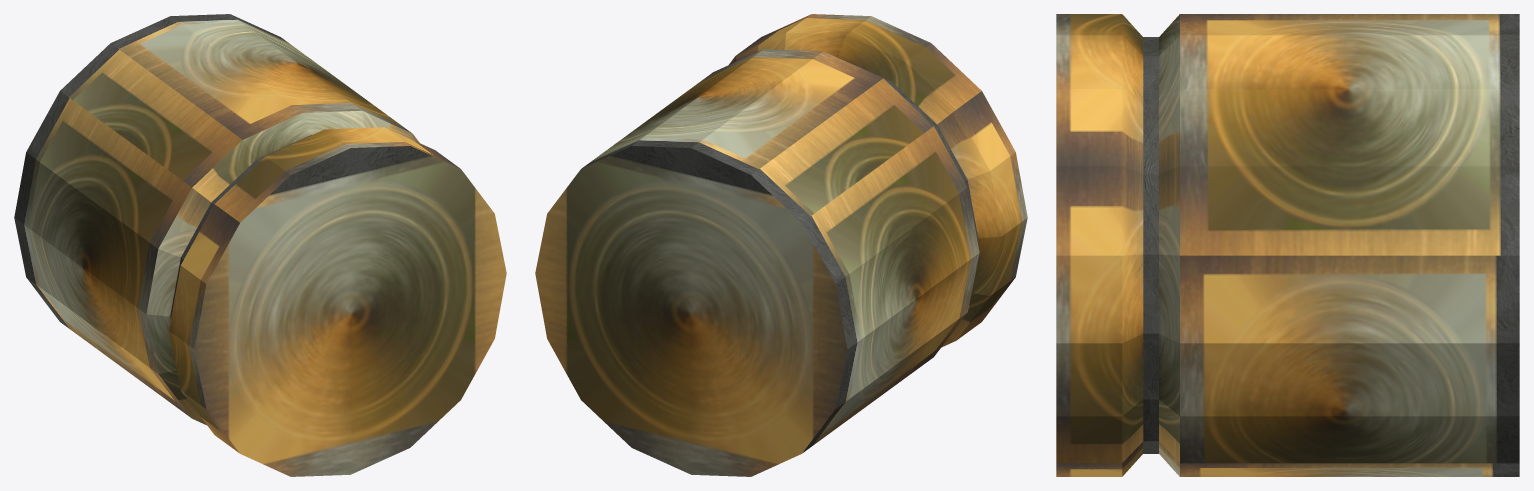
3 views of the same model, side by side, from view 1: azimuth 30°, elevation 25°; view 2: azimuth 150°, elevation 25°; view 3: azimuth 270°, elevation 25° (orthographic). The views are drawn at different scales.
Parts seen in each view (by area): view 1: Cube_Cube_None_QuartoPieces.png; view 2: Cube_Cube_None_QuartoPieces.png; view 3: Cube_Cube_None_QuartoPieces.png.
Boxes of the visible parts, box(x1,y1,x2,y2) form: Cube_Cube_None_QuartoPieces.png: box(14, 14, 506, 476); Cube_Cube_None_QuartoPieces.png: box(535, 14, 1027, 476); Cube_Cube_None_QuartoPieces.png: box(1056, 14, 1519, 476).
Size of the model in its own units: 2 by 2 by 2.
